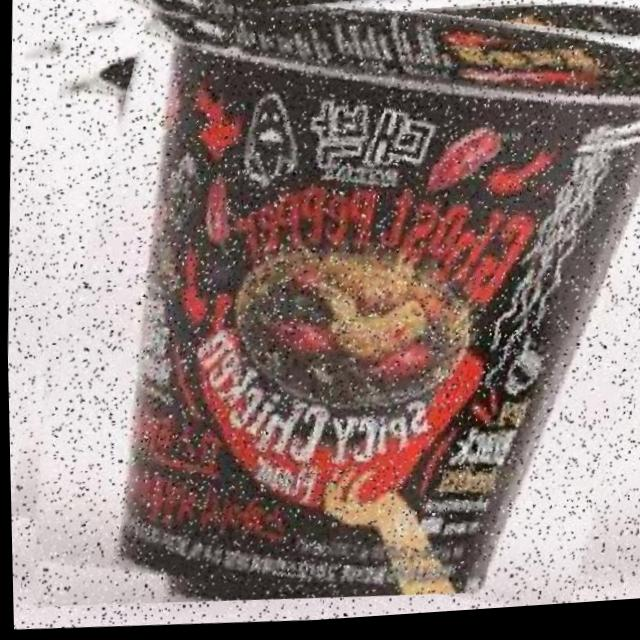Miscellaneous: (16, 0, 640, 627)
